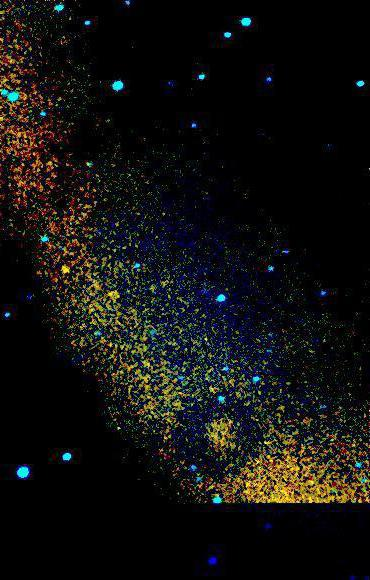star: (50, 254, 80, 284)
